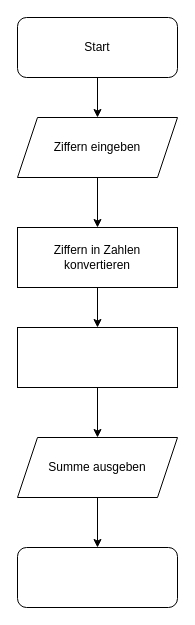
Some shapes in this 195 by 625 pixel diagram are drawn without their labels. Each missing label, with the centre of its shape:
"Stop" belongs at pixel 97 577.
"Summe bilden" belongs at pixel 97 357.
